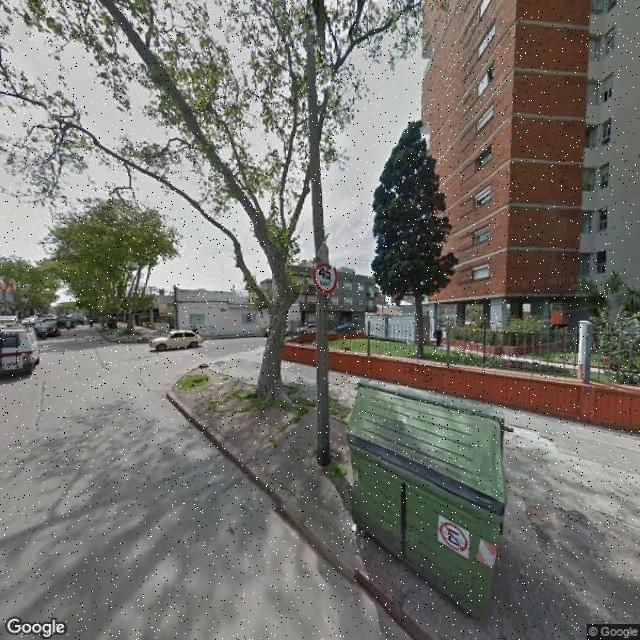garbage container: (339, 370, 531, 631)
